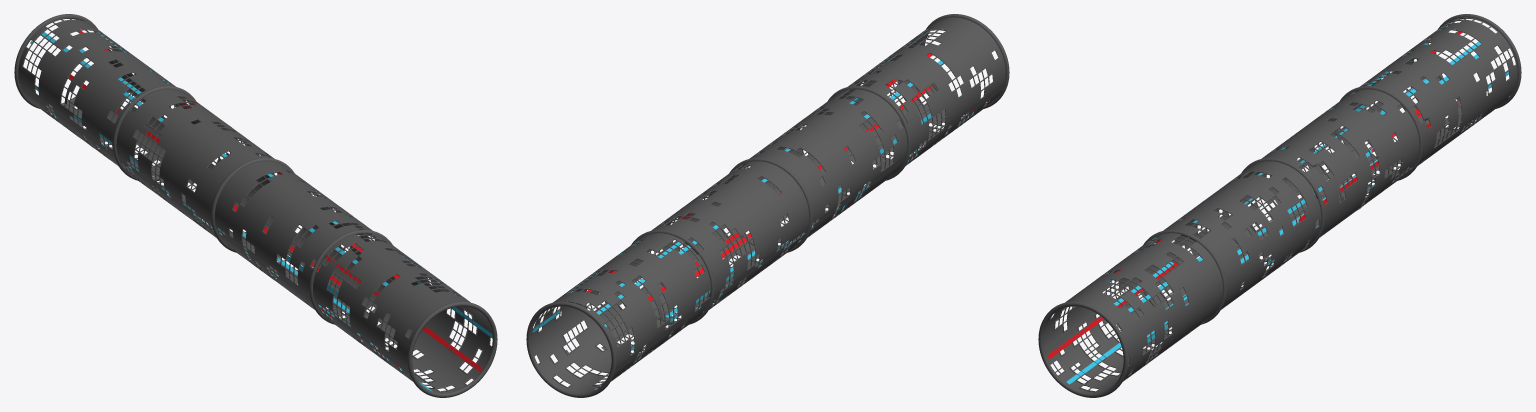
Rendered from baptiste - avraam - sci-fi-anim V4.fbx.
3 renders of one model, left to right at view 1: azimuth 30°, elevation 25°; view 2: azimuth 150°, elevation 25°; view 3: azimuth 330°, elevation 25°, orthographic.
Visible parts, largest first — view 1: out, in, BezierCircle.005, lasers bleus, lasers rouges, BezierCircle.004, BezierCircle.002, BezierCircle.003, BezierCircle; view 2: out, in, BezierCircle.002, lasers bleus, BezierCircle.003, BezierCircle, BezierCircle.005, BezierCircle.004, lasers rouges; view 3: out, in, lasers bleus, BezierCircle.005, lasers rouges, BezierCircle.003, BezierCircle.004, BezierCircle.002, BezierCircle.
Boxes of the visible parts, box(x1,y1,x2,y2) form: out: box(18, 17, 492, 392); in: box(22, 17, 492, 392); BezierCircle.005: box(407, 301, 497, 397); lasers bleus: box(30, 32, 492, 391); lasers rouges: box(68, 30, 481, 370); BezierCircle.004: box(309, 229, 395, 324); BezierCircle.002: box(14, 14, 97, 108); BezierCircle.003: box(112, 86, 200, 181); BezierCircle: box(211, 158, 294, 252); out: box(531, 17, 1005, 392); in: box(532, 26, 999, 391); BezierCircle.002: box(526, 301, 616, 397); lasers bleus: box(532, 28, 973, 358); BezierCircle.003: box(629, 229, 714, 324); BezierCircle: box(725, 158, 812, 252); BezierCircle.005: box(921, 14, 1009, 108); BezierCircle.004: box(824, 86, 911, 180); lasers rouges: box(586, 53, 988, 300); out: box(1043, 17, 1517, 392); in: box(1048, 17, 1516, 392); lasers bleus: box(1066, 22, 1508, 384); BezierCircle.005: box(1038, 301, 1128, 397); lasers rouges: box(1047, 31, 1462, 358); BezierCircle.003: box(1334, 86, 1423, 180); BezierCircle.004: box(1139, 229, 1226, 324); BezierCircle.002: box(1434, 14, 1521, 108); BezierCircle: box(1241, 158, 1324, 252).
Bounding box in the file's own units: 210 × 210 × 1610.
